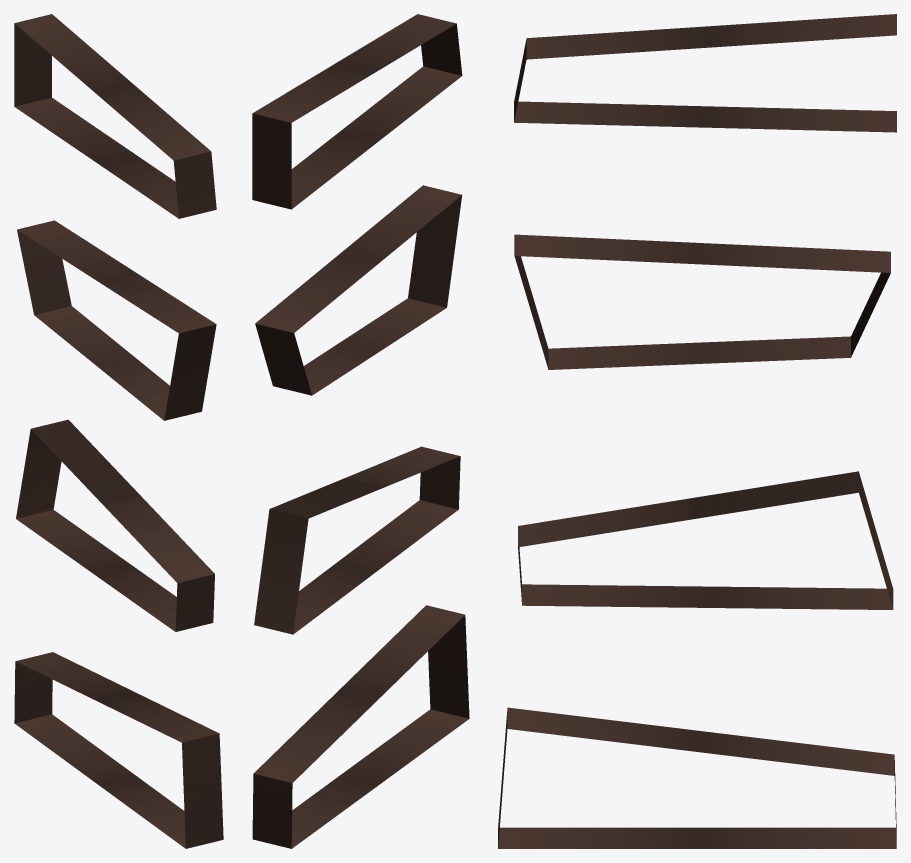
File: SM_WallCoffins_1.fbx
The picture shows the model from 3 angles, left to right: view 1: azimuth 30°, elevation 25°; view 2: azimuth 150°, elevation 25°; view 3: azimuth 270°, elevation 25°; orthographic projection. The views are drawn at different scales.
Parts seen in each view (by area): view 1: polySurface6; view 2: polySurface6; view 3: polySurface6.
Part boxes in pixels (x1=…): polySurface6: x1=14, y1=14, x2=223, y2=848; polySurface6: x1=252, y1=14, x2=469, y2=848; polySurface6: x1=498, y1=14, x2=896, y2=848.
Size of the model in its own units: 0.4272 by 7.57 by 3.36.
